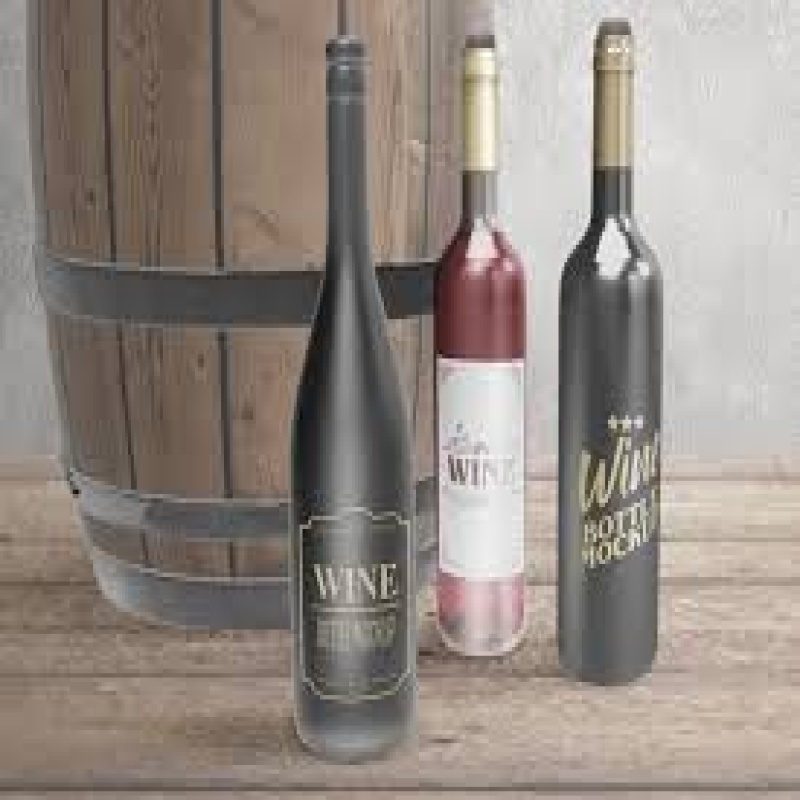wine: (287, 41, 412, 752), (560, 27, 655, 685), (437, 35, 526, 655)
